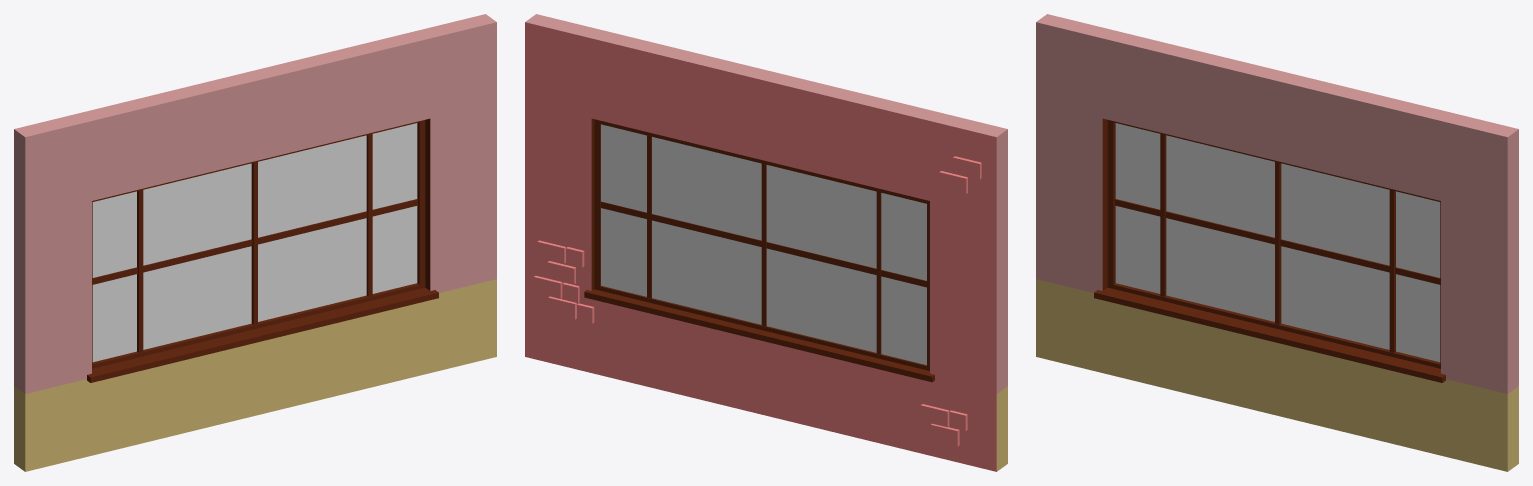
Rendered from window5.fbx.
3 views of the same model, side by side, from view 1: azimuth 30°, elevation 25°; view 2: azimuth 150°, elevation 25°; view 3: azimuth 330°, elevation 25° (orthographic).
Visible parts, largest first — view 1: wall_window4.001, glass6; view 2: wall_window4.001, glass6; view 3: wall_window4.001, glass6.
Boxes of the visible parts, x1,y1,x2,y2 form: wall_window4.001: (14,14,496,471); glass6: (92,123,417,362); wall_window4.001: (525,14,1007,471); glass6: (601,124,926,364); wall_window4.001: (1036,14,1518,471); glass6: (1115,123,1440,362).
Bounding box in the file's own units: 411 × 279 × 26.33.
